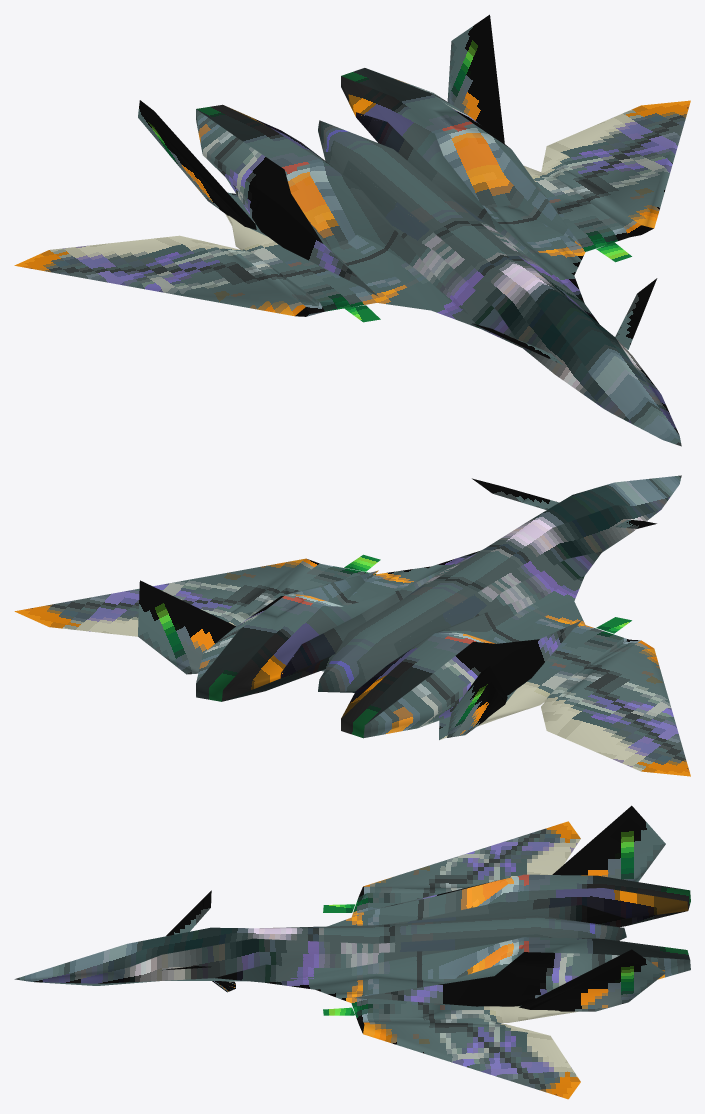
The model's file is ps2_save-icons_hresvelgrinternationaledition.glb.
3 renders of one model, top to bottom at view 1: azimuth 30°, elevation 25°; view 2: azimuth 150°, elevation 25°; view 3: azimuth 270°, elevation 25°, orthographic. The views are drawn at different scales.
Parts seen in each view (by area): view 1: stan.ico; view 2: stan.ico; view 3: stan.ico.
Boxes of the visible parts, x1,y1,x2,y2 form: stan.ico: (14,14,690,446); stan.ico: (14,475,690,776); stan.ico: (14,805,690,1099).
Size of the model in its own units: 4.68 by 0.9021 by 4.81.
1 material, 1 textured.
